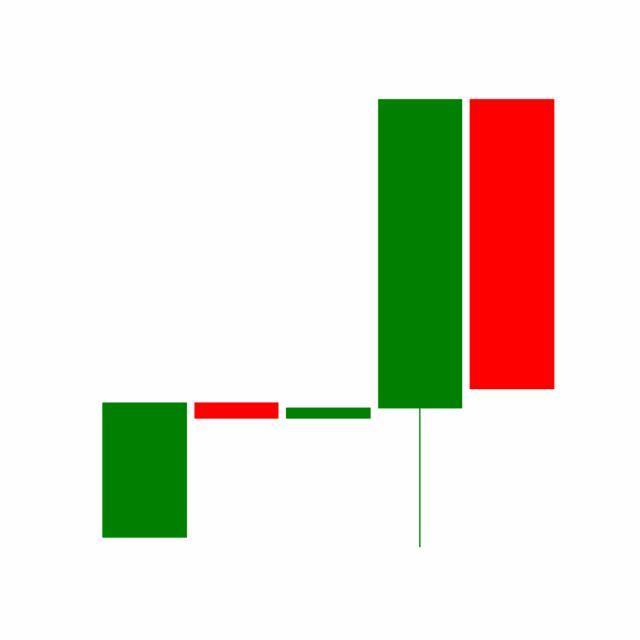Marubozu: (466, 97, 559, 394)
